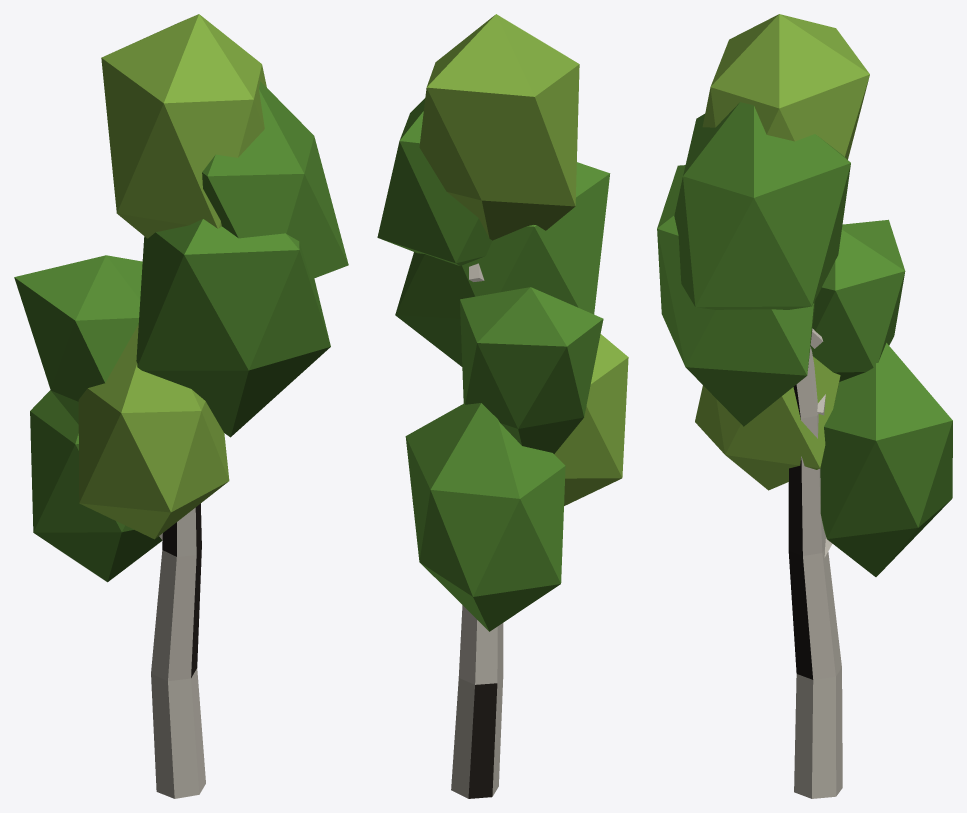
File: Tree_Birch_B.glb
3 renders of one model, left to right at view 1: azimuth 30°, elevation 25°; view 2: azimuth 150°, elevation 25°; view 3: azimuth 270°, elevation 25°, orthographic. The views are drawn at different scales.
Parts seen in each view (by area): view 1: Tree_Birch_B; view 2: Tree_Birch_B; view 3: Tree_Birch_B.
Part boxes in pixels (x1,y1,x2,y2): Tree_Birch_B: (14, 14, 348, 798); Tree_Birch_B: (377, 14, 628, 798); Tree_Birch_B: (657, 14, 952, 798).
Size of the model in its own units: 1.59 by 5.09 by 1.76.
